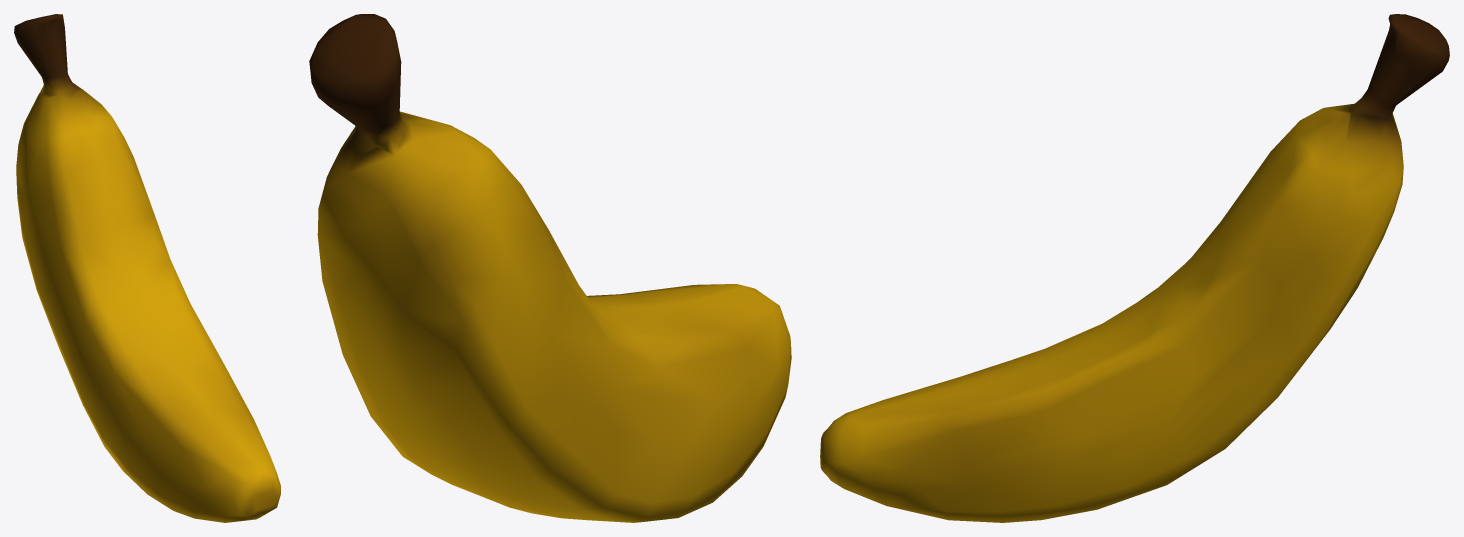
File: banana.glb
The picture shows the model from 3 angles, left to right: view 1: azimuth 30°, elevation 25°; view 2: azimuth 150°, elevation 25°; view 3: azimuth 270°, elevation 25°; orthographic projection. The views are drawn at different scales.
Visible parts, largest first — view 1: Banana; view 2: Banana; view 3: Banana.
Part boxes in pixels (left/top/right/bottom): Banana: left=14, top=14, right=280, bottom=522; Banana: left=309, top=14, right=791, bottom=522; Banana: left=820, top=14, right=1449, bottom=522.
Size of the model in its own units: 0.1027 by 0.3384 by 0.3922.
